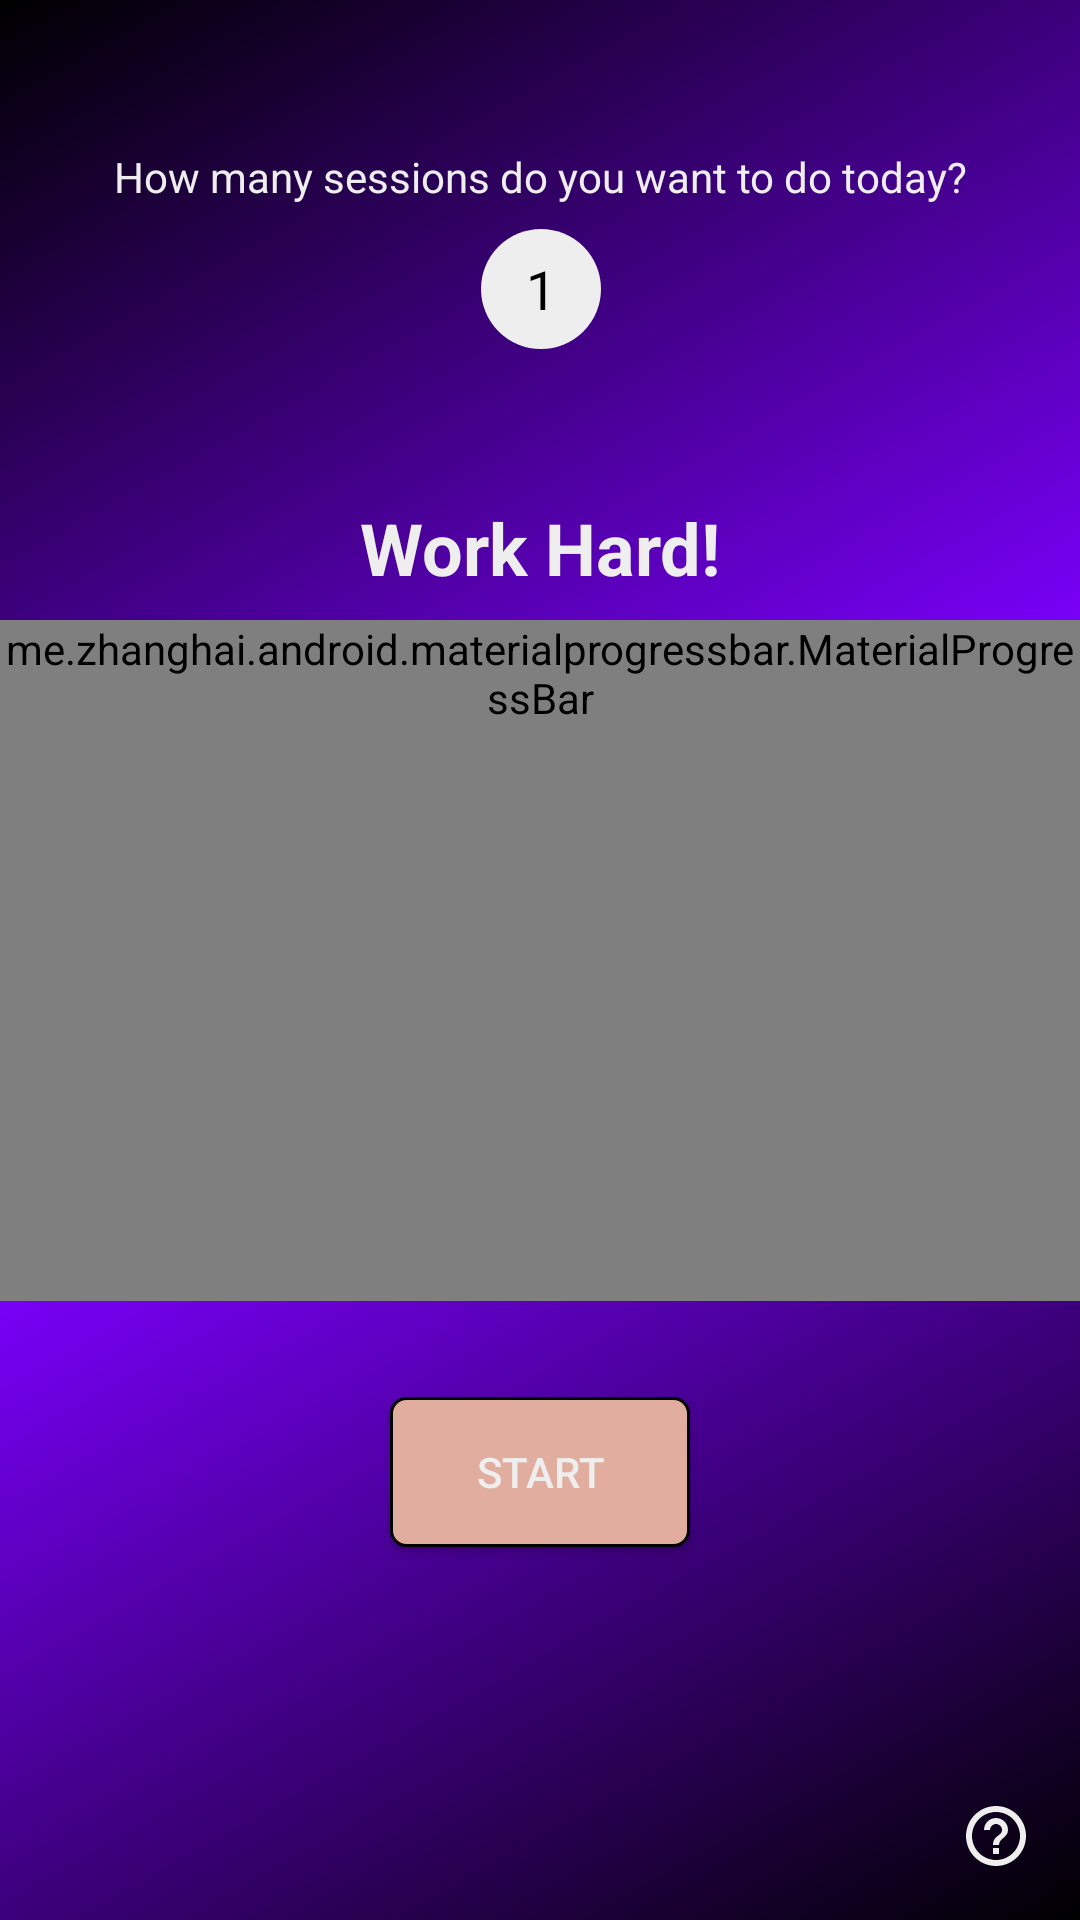

Icon click points for this 1080px x 1920px phone screenshot, format (x=x, y=y):
help: (x=996, y=1836)
